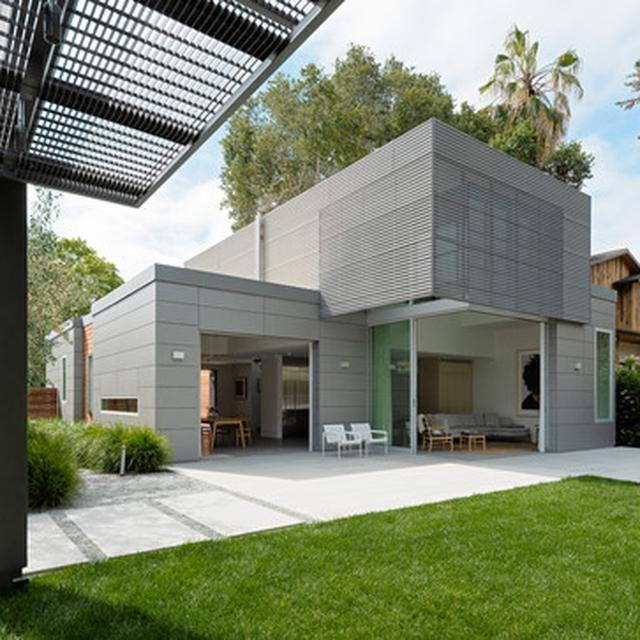building: (49, 116, 616, 453)
